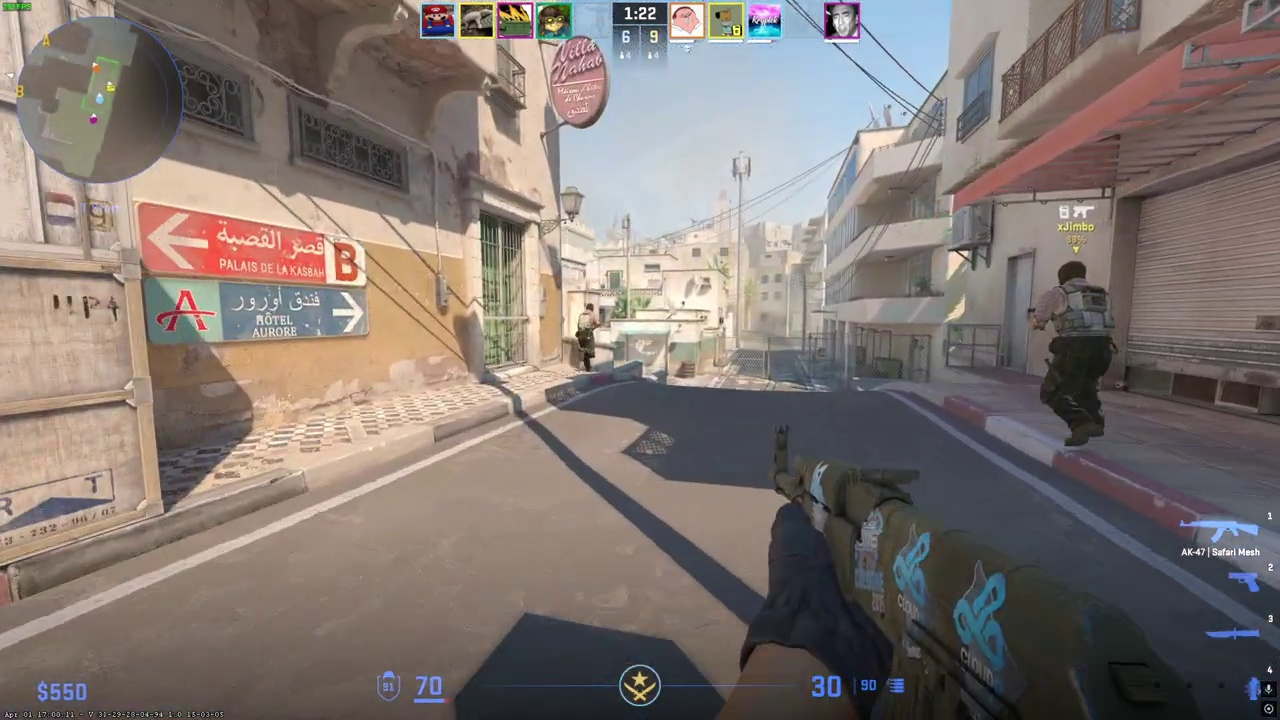Terrorist: (1036, 260, 1117, 449), (575, 303, 599, 371)
